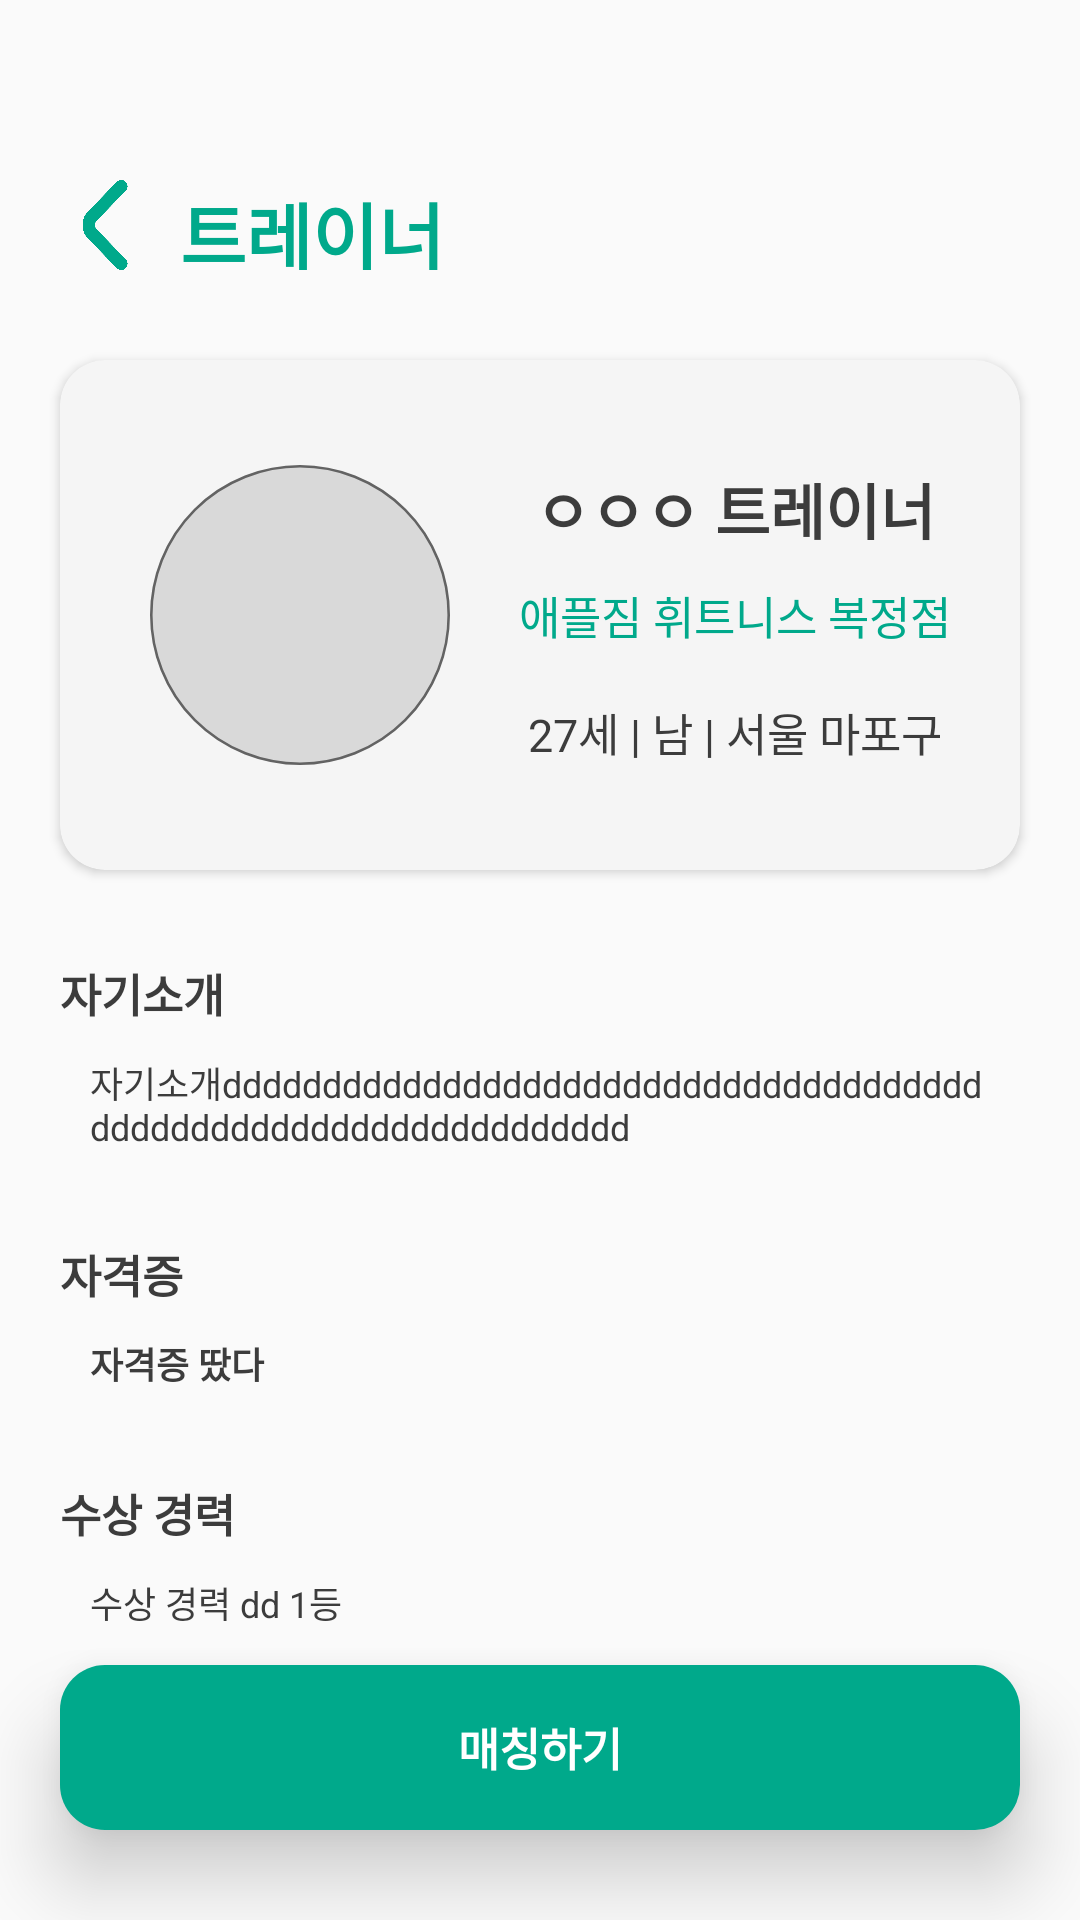

Locate icon controls on the screen. Image size 1080 × 1920, boxes as (x1, y1, x2, y2).
back: (83, 180, 128, 270)
